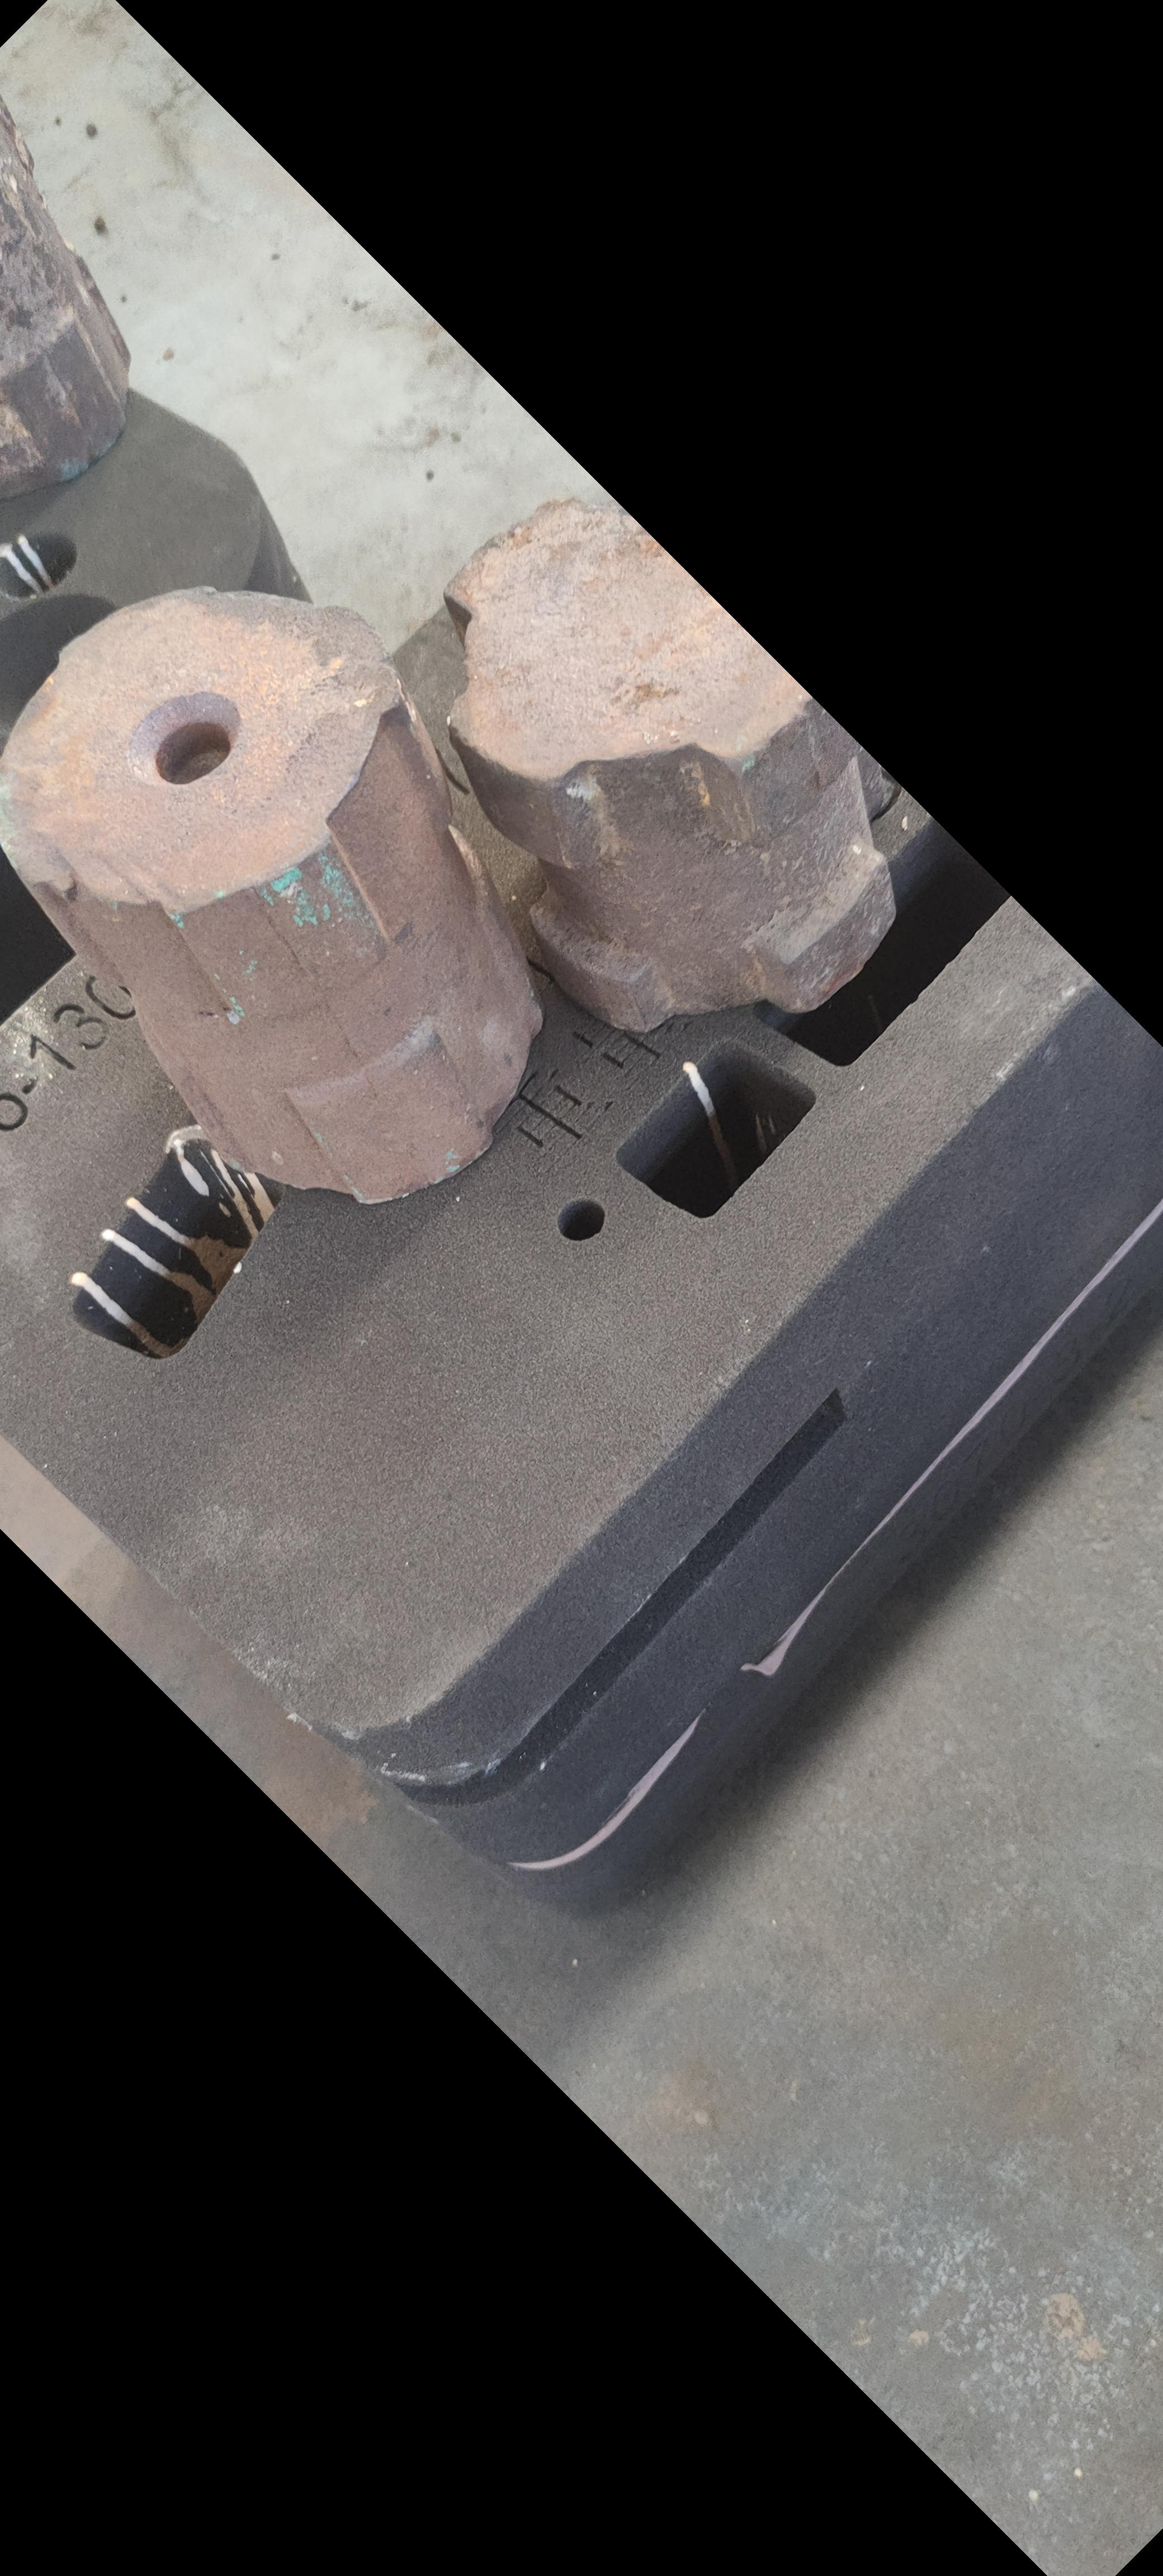pouring hole: (0, 593, 136, 739)
